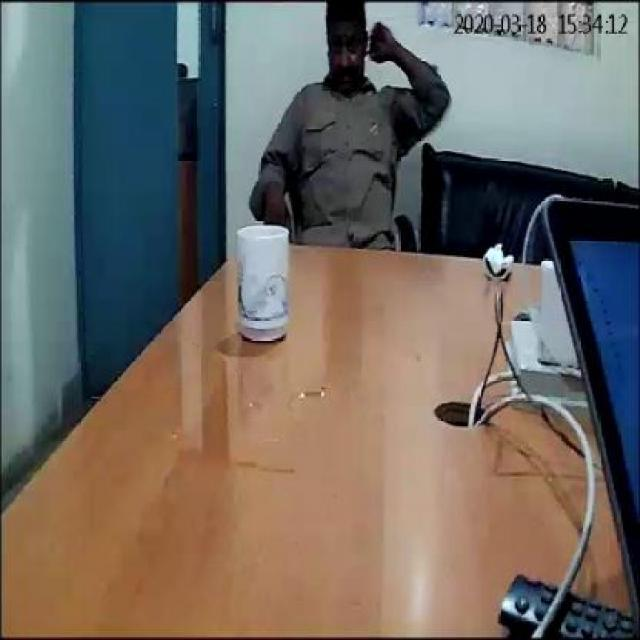spill: (195, 348, 332, 474)
